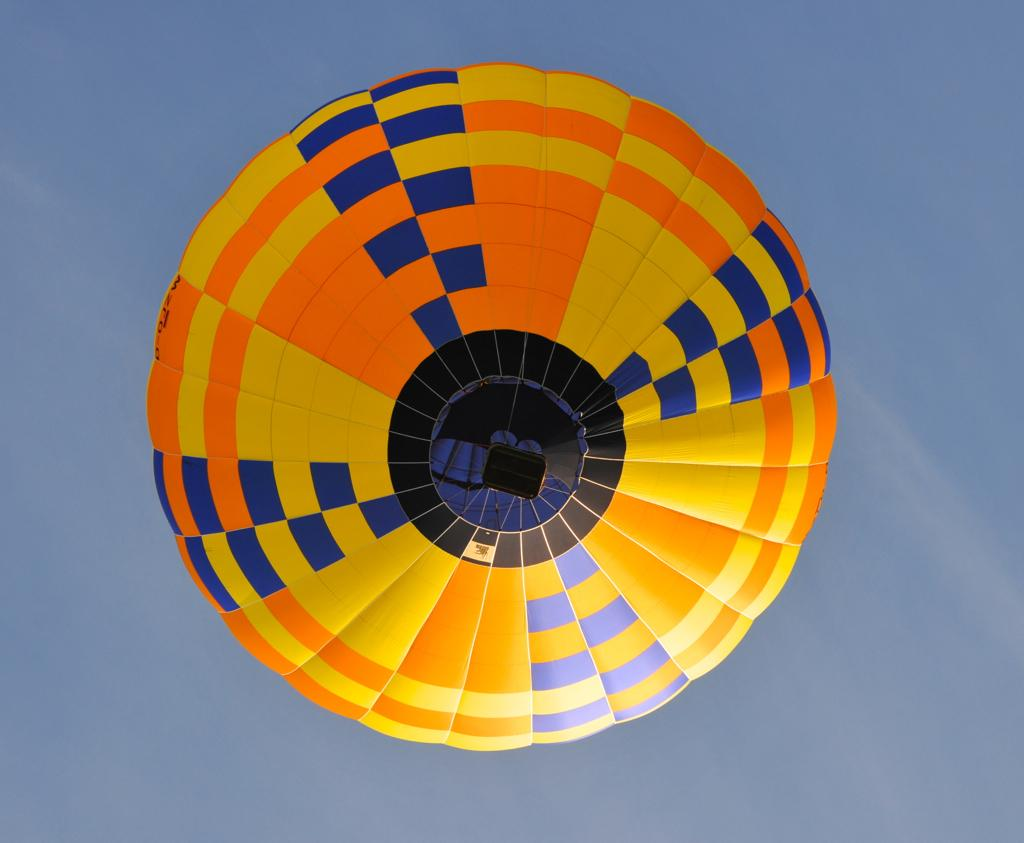balloon: (146, 60, 839, 753)
